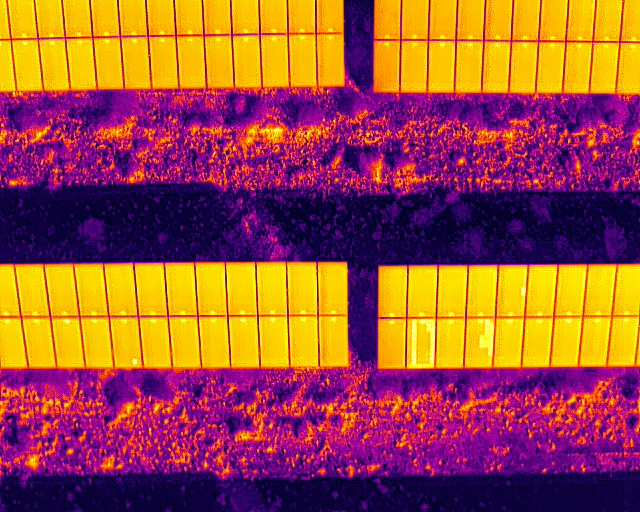photovoltaic_panels: (3, 258, 353, 371), (2, 2, 345, 94), (377, 263, 639, 370), (371, 2, 637, 97)
single_spot: (107, 315, 146, 368), (496, 266, 529, 320)
stripe_spot: (404, 316, 440, 369), (461, 316, 496, 369)
